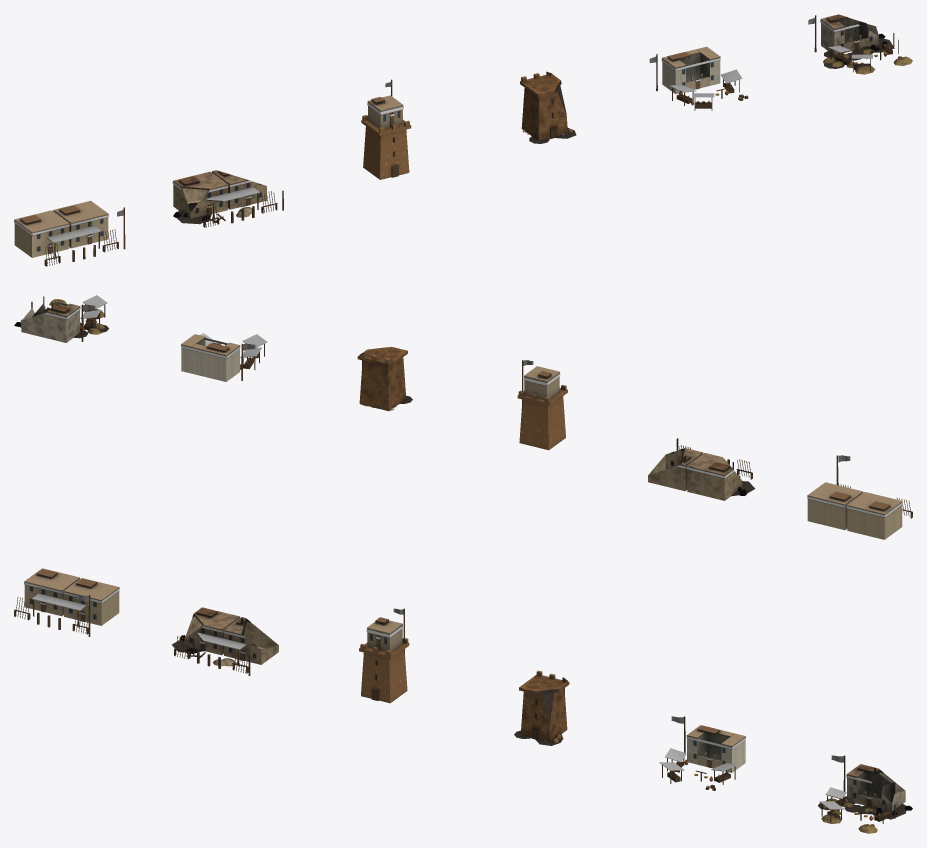
Rendered from rts-classical-nile.glb.
3 renders of one model, top to bottom at view 1: azimuth 30°, elevation 25°; view 2: azimuth 150°, elevation 25°; view 3: azimuth 330°, elevation 25°, orthographic.
Parts seen in each view (by area): view 1: LOD0, LOD0.001, LOD0.002, LOD0.005, LOD0.004, LOD0.003; view 2: LOD0, LOD0.001, LOD0.002, LOD0.004, LOD0.005, LOD0.003; view 3: LOD0, LOD0.001, LOD0.005, LOD0.002, LOD0.004, LOD0.003.
Part boxes in pixels (x1=…): LOD0: x1=14, y1=200, x2=125, y2=266; LOD0.001: x1=172, y1=170, x2=283, y2=227; LOD0.002: x1=361, y1=79, x2=411, y2=179; LOD0.005: x1=808, y1=14, x2=912, y2=74; LOD0.004: x1=649, y1=46, x2=748, y2=110; LOD0.003: x1=520, y1=71, x2=576, y2=143; LOD0: x1=807, y1=455, x2=912, y2=539; LOD0.001: x1=648, y1=438, x2=755, y2=500; LOD0.002: x1=517, y1=360, x2=567, y2=450; LOD0.004: x1=181, y1=333, x2=267, y2=381; LOD0.005: x1=14, y1=295, x2=108, y2=342; LOD0.003: x1=357, y1=346, x2=412, y2=411; LOD0: x1=14, y1=568, x2=119, y2=636; LOD0.001: x1=171, y1=607, x2=278, y2=675; LOD0.005: x1=818, y1=755, x2=912, y2=833; LOD0.002: x1=359, y1=608, x2=409, y2=703; LOD0.004: x1=659, y1=716, x2=745, y2=790; LOD0.003: x1=514, y1=670, x2=569, y2=745.
Size of what is drawn, in the model's own units: 16.4 by 1.48 by 1.36.
2 materials, 2 textured.
